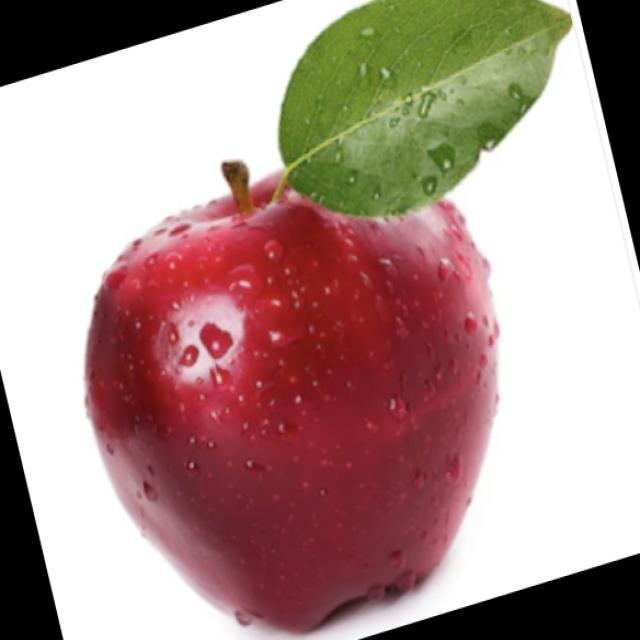Fresh Apple: (72, 165, 518, 622)
